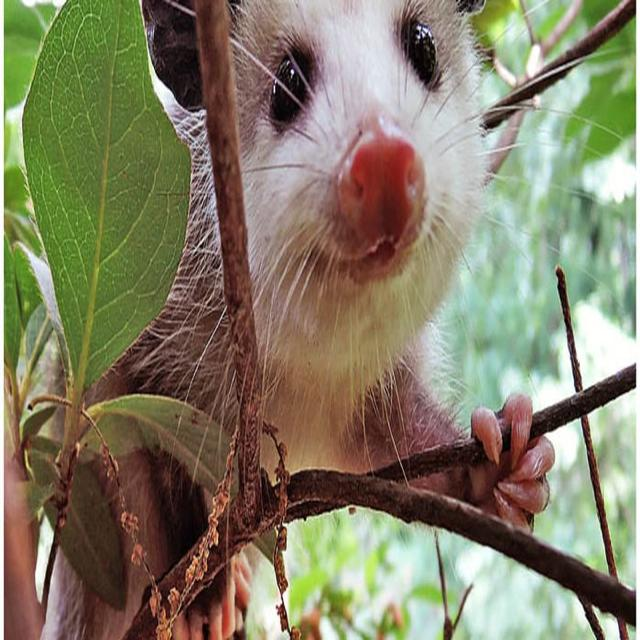Possum: (137, 2, 555, 536)
